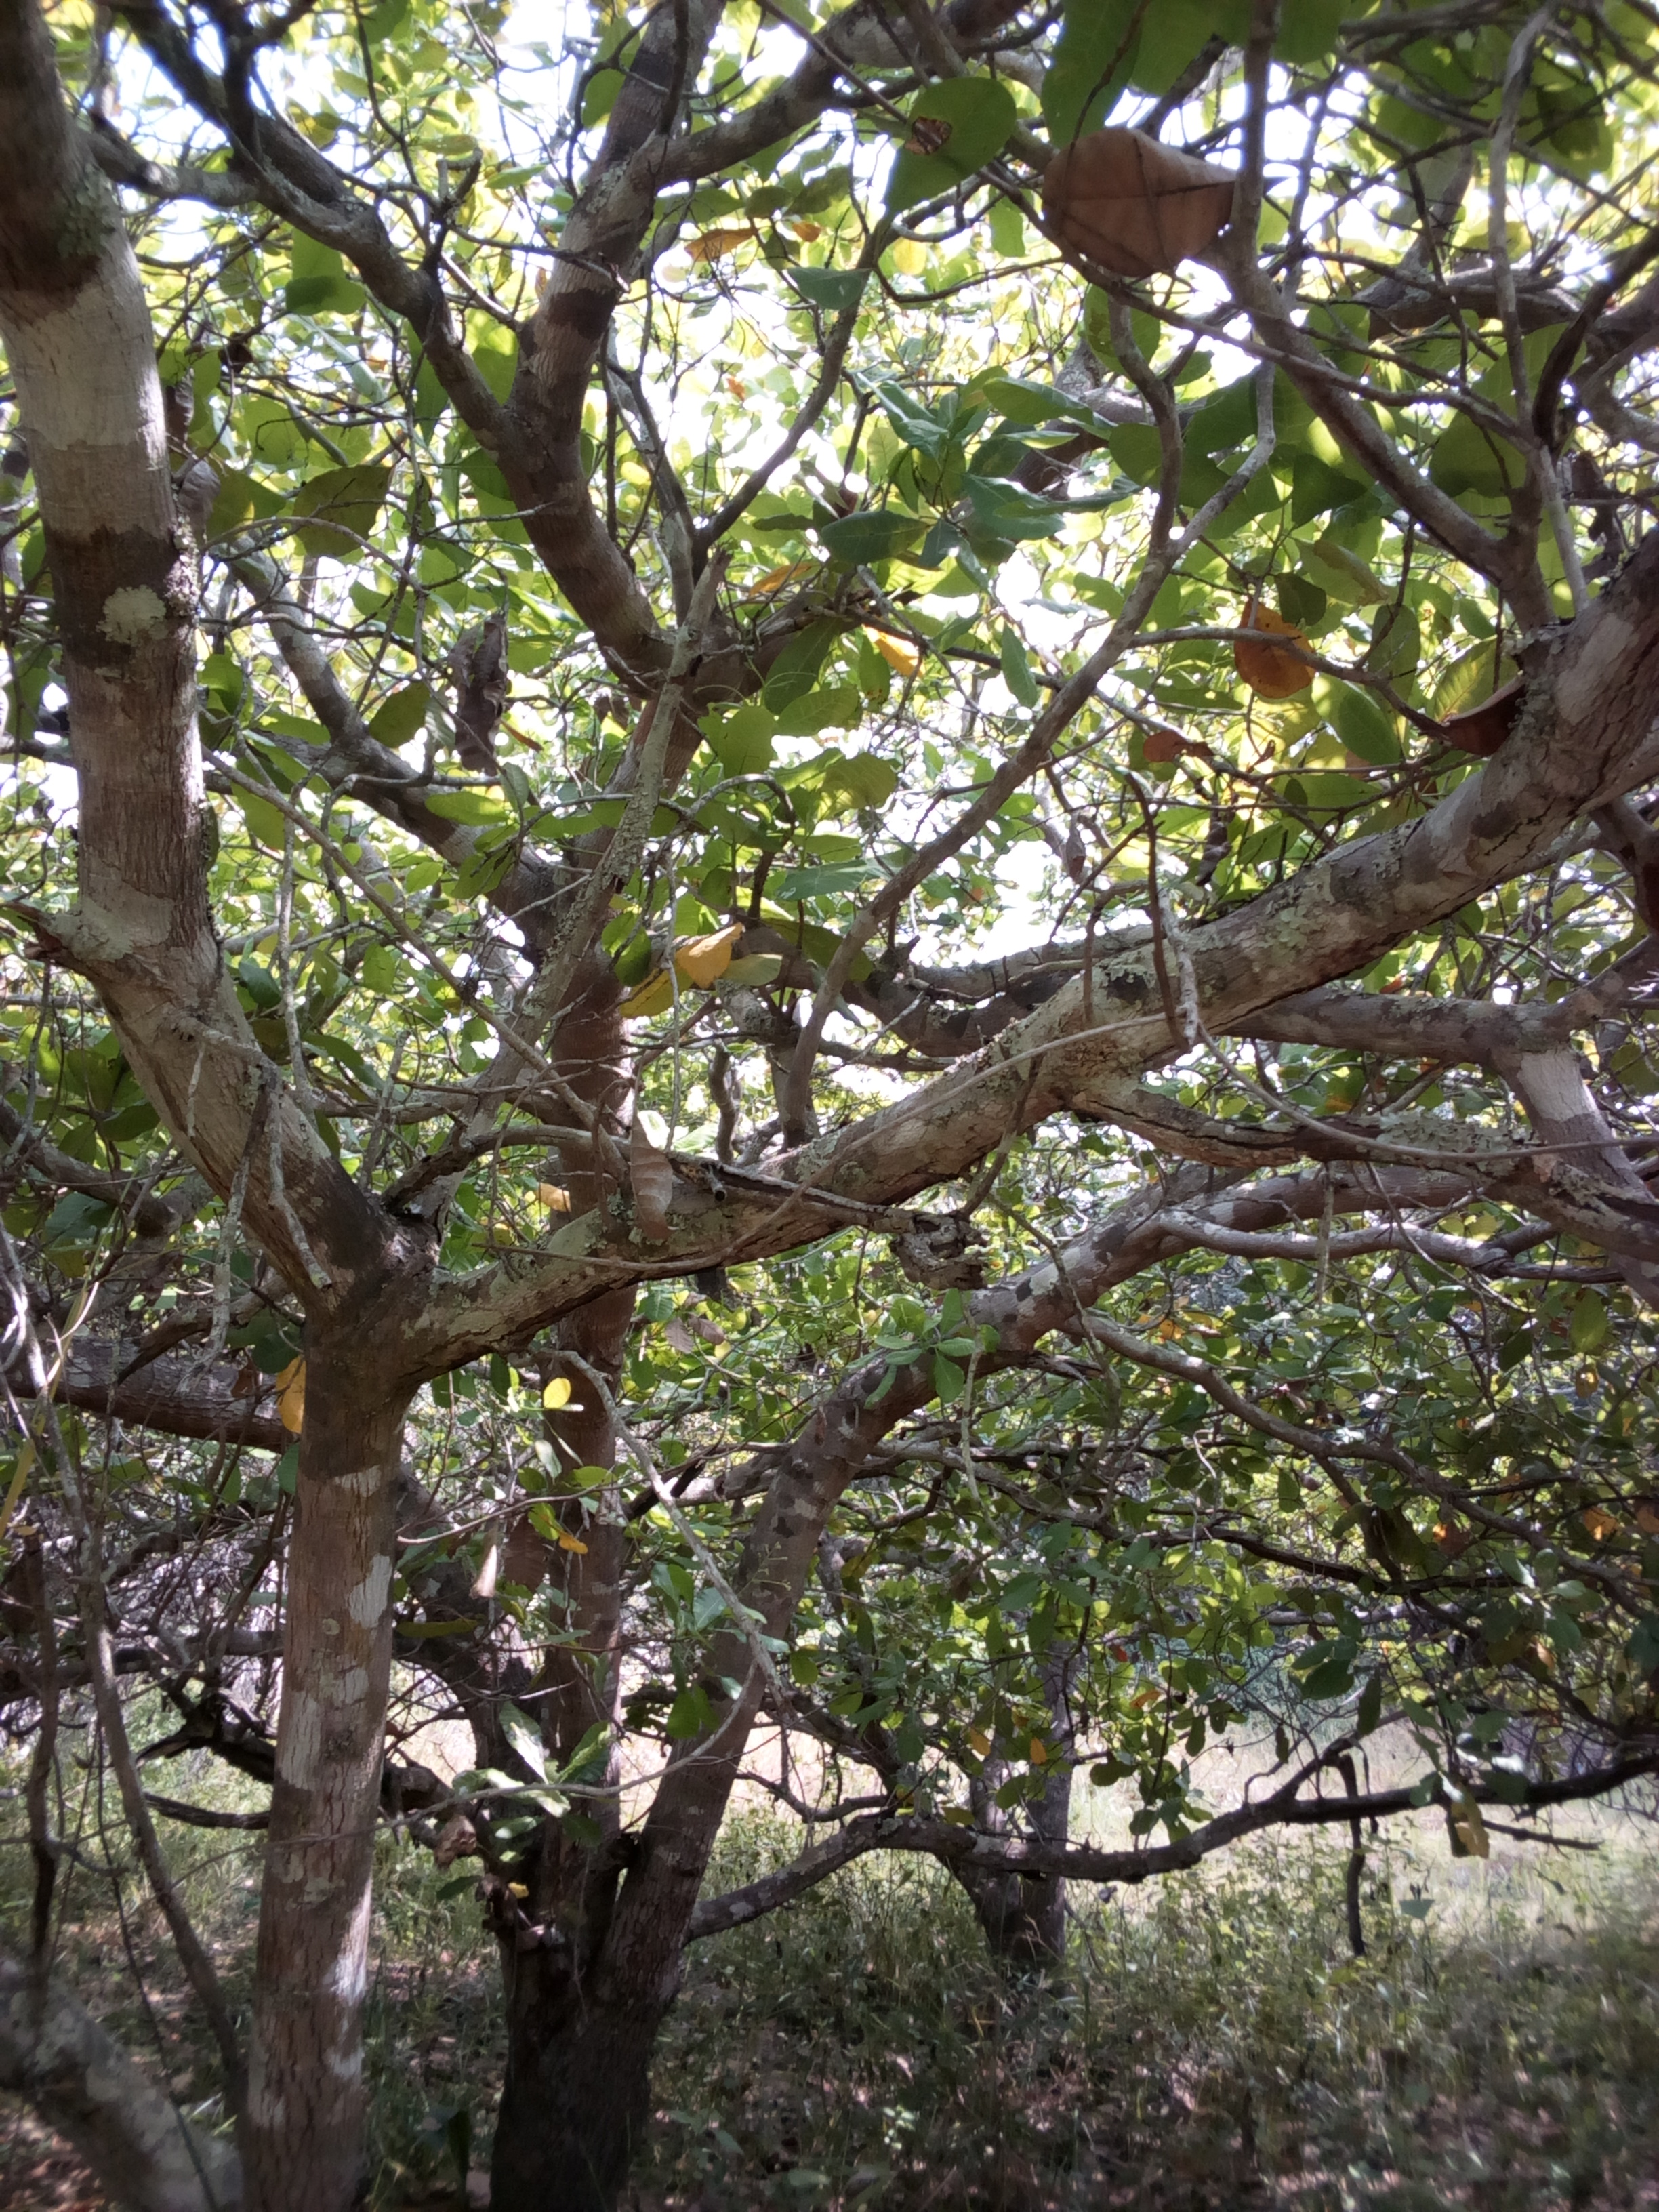Termites: (532, 1984, 640, 2212)
